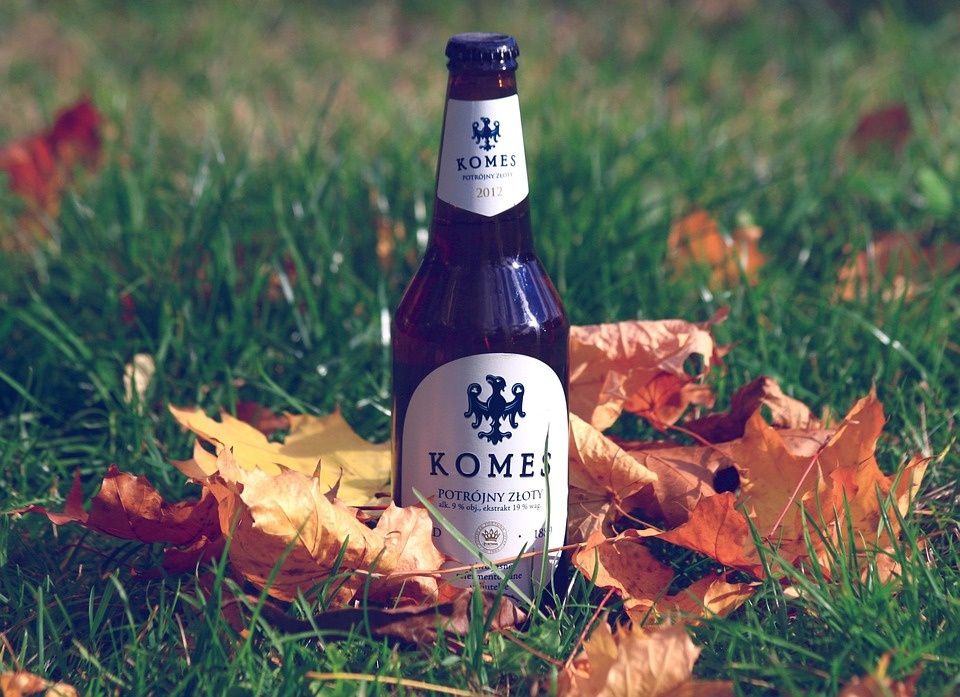beerBottle: (389, 28, 561, 589)
